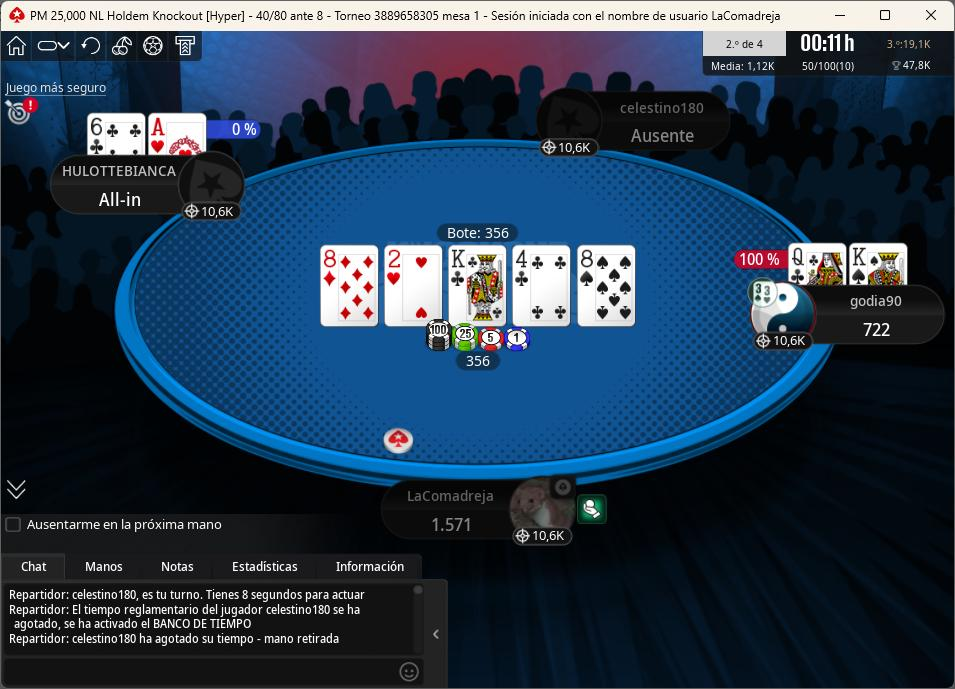Dealer: (378, 425, 418, 458)
Player: (745, 281, 950, 351), (48, 152, 249, 214), (546, 96, 736, 160)
PlayerChips: (621, 126, 702, 142), (93, 189, 151, 210), (859, 322, 902, 343)
Pot: (434, 225, 522, 244)
PrincipalPlayer: (382, 480, 589, 552)
PrincipalPlayerChips: (426, 517, 484, 537)
ShowedCards: (314, 241, 641, 335)
ShowedCards1: (319, 246, 384, 331)
ShowedCards2: (384, 246, 447, 330), (511, 246, 572, 329)
ShowedCards3: (446, 245, 510, 331)
ShowedCards5: (574, 242, 636, 325)
SmallBigBlind: (247, 4, 333, 29)
TablePot: (417, 323, 547, 382)
